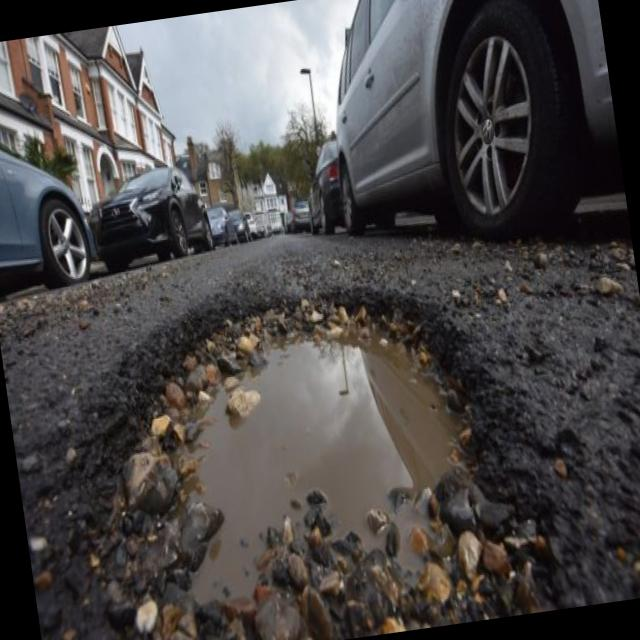bad-road: (32, 261, 537, 640)
